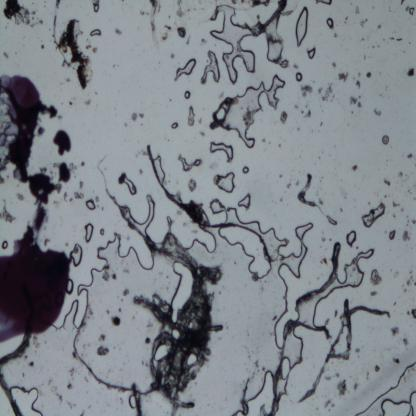Air bubble: (140, 265, 227, 411), (266, 219, 314, 338), (221, 76, 286, 148), (206, 4, 256, 80), (358, 360, 416, 414), (57, 268, 102, 330), (218, 227, 272, 278), (94, 238, 155, 272), (339, 249, 375, 293), (181, 229, 219, 258), (210, 200, 261, 221), (266, 24, 288, 70), (13, 384, 41, 415), (136, 194, 155, 232), (201, 50, 221, 85), (286, 334, 305, 368), (295, 6, 309, 48), (211, 171, 235, 195), (173, 58, 197, 82), (364, 202, 386, 225), (178, 154, 202, 173), (154, 152, 165, 186), (69, 243, 83, 266), (237, 193, 253, 211), (278, 356, 292, 376), (345, 230, 358, 249), (187, 105, 196, 128), (84, 223, 94, 242), (128, 392, 136, 412), (327, 212, 338, 226), (307, 46, 317, 60), (325, 16, 335, 30), (85, 200, 97, 211), (67, 278, 74, 296), (182, 88, 192, 100), (89, 28, 102, 36), (315, 0, 332, 6), (92, 0, 100, 12), (295, 72, 304, 82), (407, 5, 415, 16), (170, 121, 179, 130), (1, 240, 9, 250), (99, 226, 106, 237), (242, 166, 249, 174)
Background material: (133, 234, 224, 405), (58, 19, 95, 89), (22, 169, 53, 236), (3, 0, 42, 26), (209, 97, 233, 131), (210, 137, 234, 162), (315, 84, 335, 103), (0, 202, 17, 222), (371, 266, 383, 286), (66, 368, 76, 391), (103, 265, 118, 280), (404, 271, 416, 289), (50, 384, 62, 402), (95, 344, 110, 358), (336, 379, 347, 397), (349, 94, 363, 108), (162, 23, 172, 42), (175, 0, 185, 19), (109, 313, 122, 327), (188, 176, 198, 194), (390, 354, 402, 369), (34, 124, 46, 138), (400, 229, 412, 243), (301, 85, 313, 98), (131, 111, 145, 122), (350, 378, 361, 392), (278, 110, 288, 125), (83, 43, 97, 53), (97, 331, 108, 343), (73, 189, 84, 200), (337, 71, 349, 81), (387, 229, 397, 241), (117, 172, 127, 184), (406, 67, 416, 79), (389, 35, 403, 43), (390, 326, 400, 337), (15, 192, 24, 203), (144, 334, 152, 346), (382, 176, 391, 186), (372, 364, 381, 374), (406, 309, 416, 318), (302, 110, 312, 119), (402, 338, 410, 348), (374, 106, 382, 116), (360, 19, 370, 27), (122, 287, 129, 298), (392, 202, 401, 210), (354, 78, 360, 90), (84, 97, 91, 107), (28, 358, 35, 368), (356, 3, 361, 16), (38, 42, 46, 50), (115, 27, 122, 36), (369, 289, 378, 296), (62, 192, 68, 202), (79, 160, 86, 168), (331, 62, 337, 70), (408, 153, 414, 161), (352, 164, 358, 172), (4, 51, 10, 59), (364, 72, 372, 78), (411, 217, 416, 226), (170, 52, 175, 59)
Cellulose filter fibre: (297, 305, 390, 403), (263, 322, 329, 415), (74, 330, 154, 396), (297, 242, 342, 307), (328, 298, 354, 358), (95, 152, 121, 210), (298, 173, 326, 218), (253, 0, 288, 35), (0, 333, 33, 368), (51, 0, 69, 64), (0, 372, 22, 416), (149, 0, 161, 50), (126, 177, 138, 195)
Cotton: (146, 144, 272, 262)
Diatom: (178, 27, 186, 38), (382, 135, 390, 145)
Pen: (0, 226, 69, 335), (0, 76, 59, 186), (52, 128, 72, 156), (56, 161, 71, 183)
